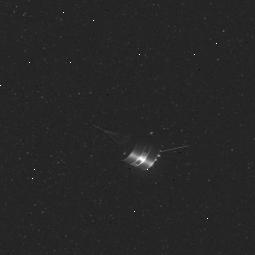double_start: (114, 116, 171, 172)
